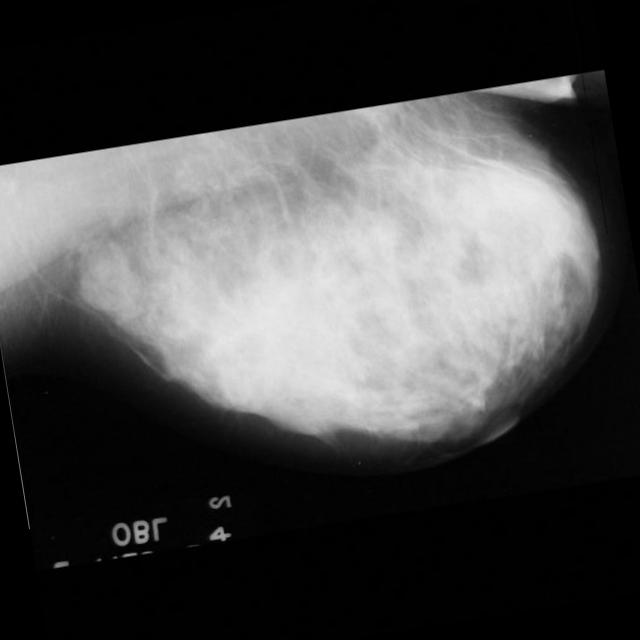CALC: (128, 233, 186, 290)
